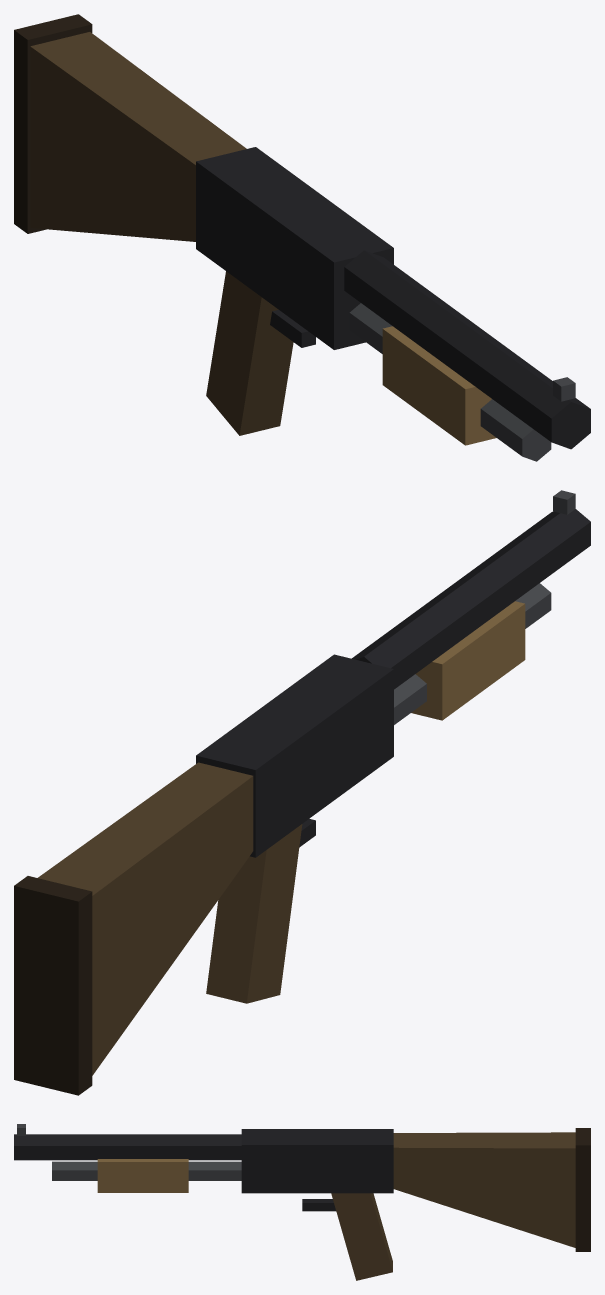
Rendered from shotgun.glb.
3 renders of one model, top to bottom at view 1: azimuth 30°, elevation 25°; view 2: azimuth 150°, elevation 25°; view 3: azimuth 270°, elevation 25°, orthographic. The views are drawn at different scales.
Visible parts, largest first — view 1: shotgun; view 2: shotgun; view 3: shotgun.
Part boxes in pixels (x1,y1,x2,y2): shotgun: (14,14,590,461); shotgun: (14,490,590,1095); shotgun: (14,1124,590,1280).
Size of the model in its own units: 0.054 by 0.2173 by 0.76.
